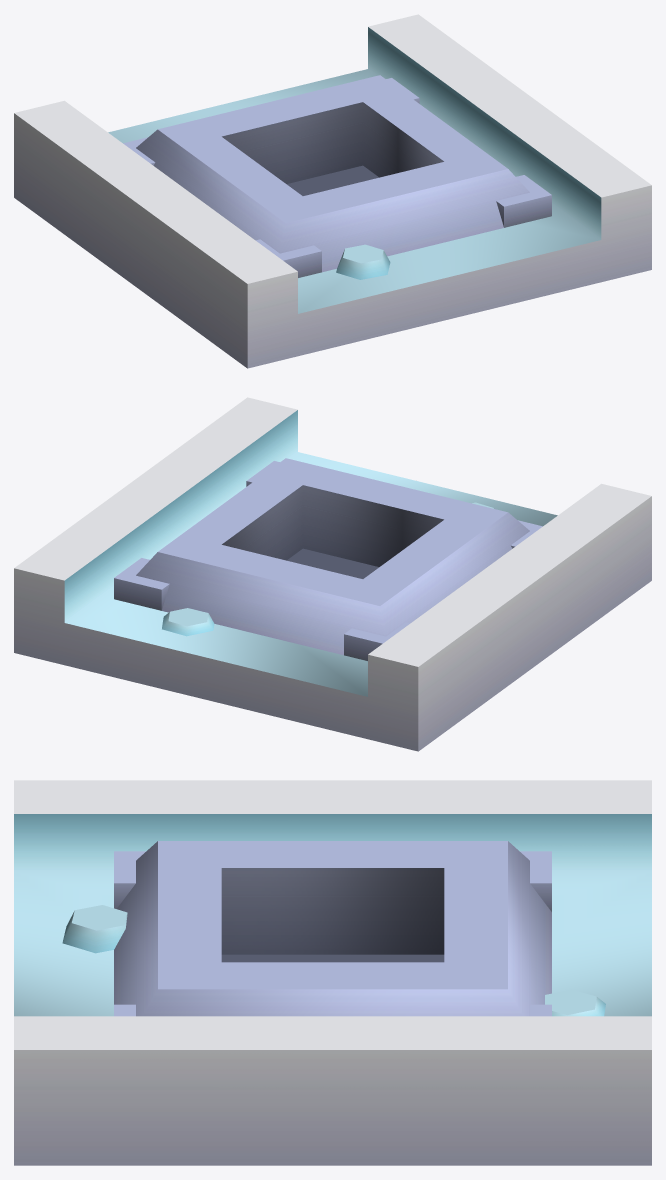
File: kenney-tower-defense-snow-tile-spawn.glb
The picture shows the model from 3 angles, top to bottom: view 1: azimuth 30°, elevation 25°; view 2: azimuth 150°, elevation 25°; view 3: azimuth 270°, elevation 25°; orthographic projection. The views are drawn at different scales.
Visible parts, largest first — view 1: snow-tile-spawn; view 2: snow-tile-spawn; view 3: snow-tile-spawn.
Part boxes in pixels (x1,y1,x2,y2): snow-tile-spawn: [14, 14, 651, 368]; snow-tile-spawn: [14, 397, 651, 751]; snow-tile-spawn: [14, 780, 651, 1165].
Size of the model in its own units: 1 by 0.2 by 1.
Materials: 1 (1 with a texture image).
